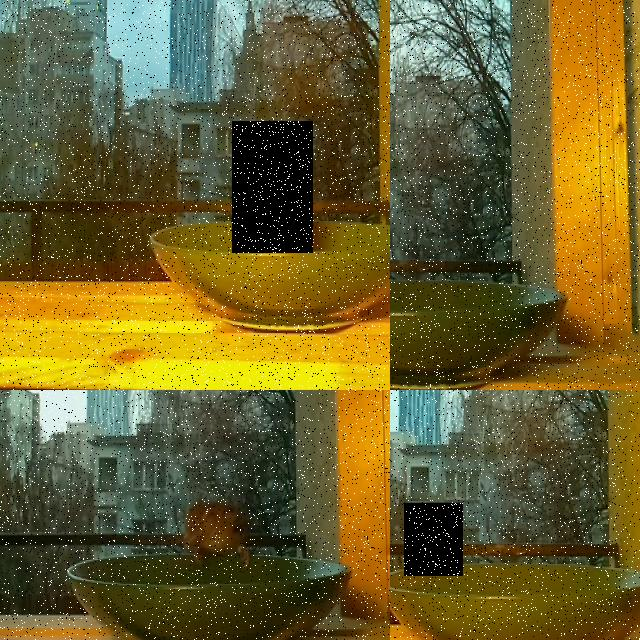Bogatka: (232, 121, 313, 253)
Modraszka: (404, 503, 463, 576)
Wrobel: (182, 497, 257, 563)
